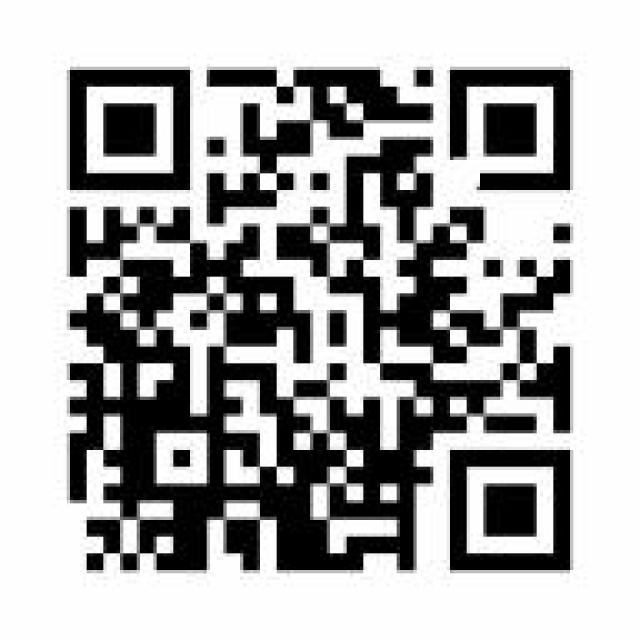QR_CODE: (43, 54, 587, 598)
